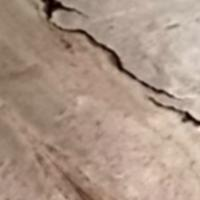crack: (41, 0, 199, 133)
